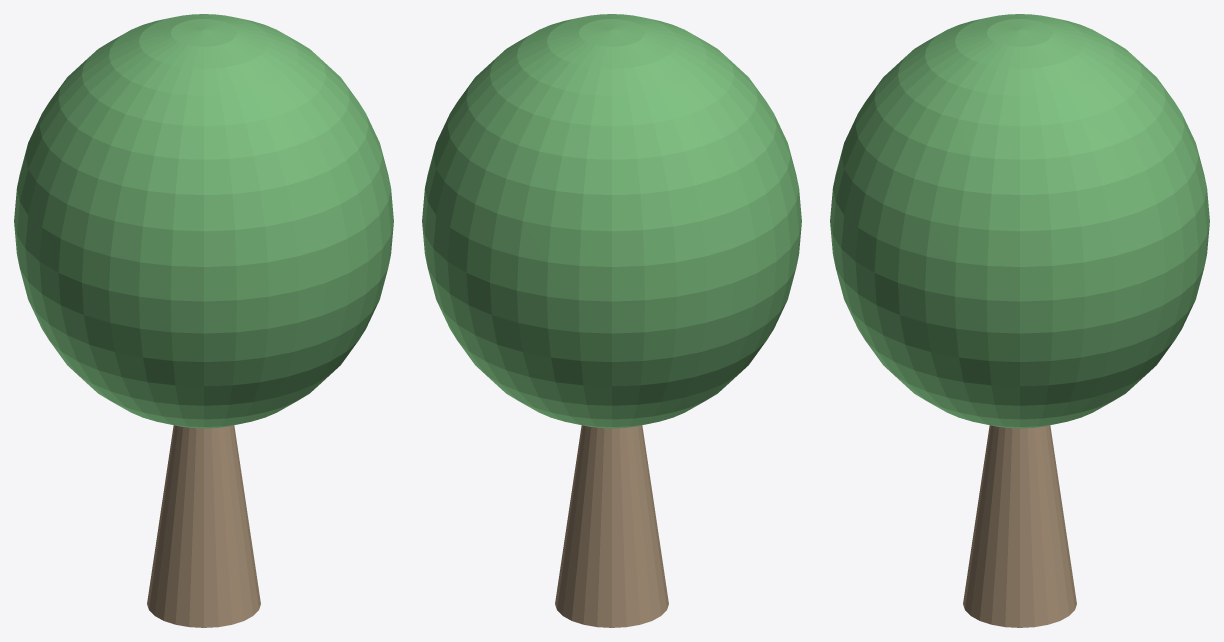
Rendered from tree.glb.
The picture shows the model from 3 angles, left to right: view 1: azimuth 30°, elevation 25°; view 2: azimuth 150°, elevation 25°; view 3: azimuth 270°, elevation 25°; orthographic projection.
Parts seen in each view (by area): view 1: Mesh_Mesh_head_geo.001_lambert2SG.001; view 2: Mesh_Mesh_head_geo.001_lambert2SG.001; view 3: Mesh_Mesh_head_geo.001_lambert2SG.001.
Boxes of the visible parts, left/top/right/bottom form: Mesh_Mesh_head_geo.001_lambert2SG.001: left=14, top=14, right=393, bottom=627; Mesh_Mesh_head_geo.001_lambert2SG.001: left=422, top=14, right=801, bottom=627; Mesh_Mesh_head_geo.001_lambert2SG.001: left=830, top=14, right=1209, bottom=627.
Size of the model in its own units: 30 by 50 by 30.
